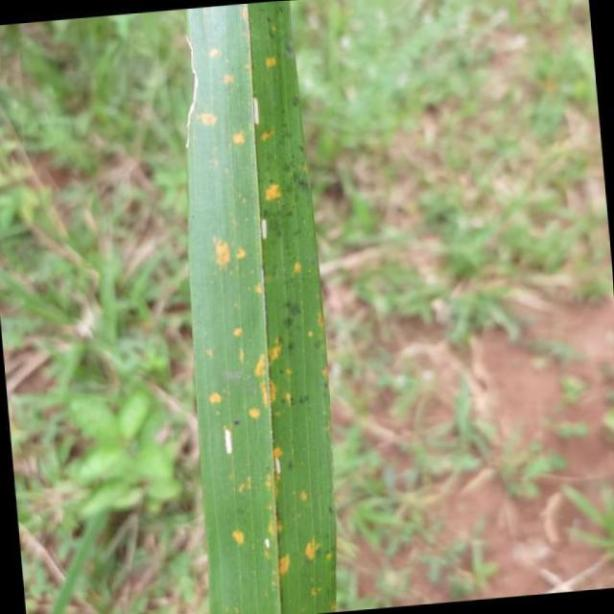Kalium: (184, 6, 336, 614)
